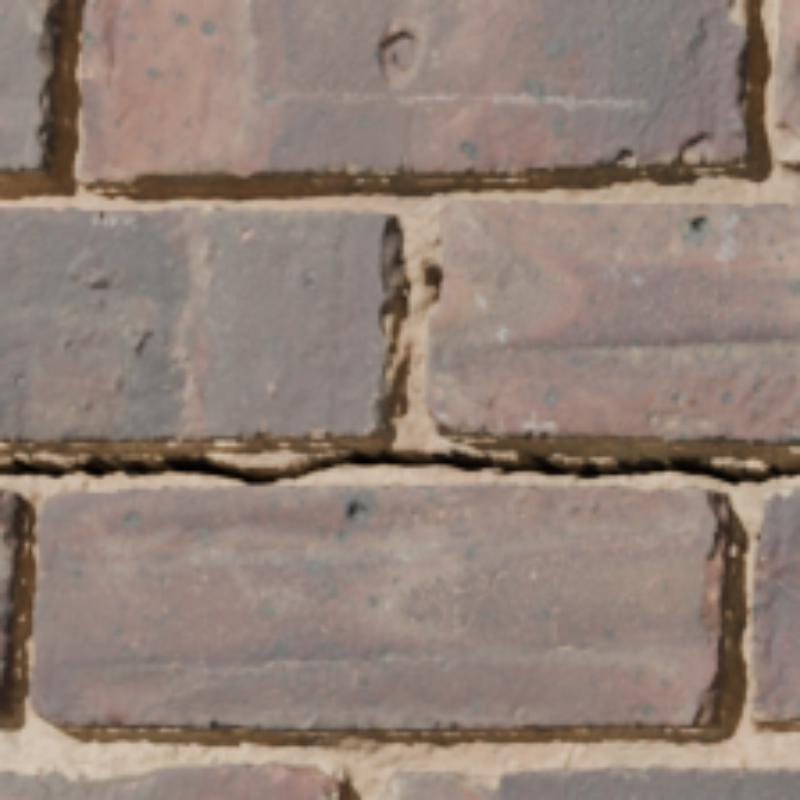pothole: (0, 446, 796, 485)
